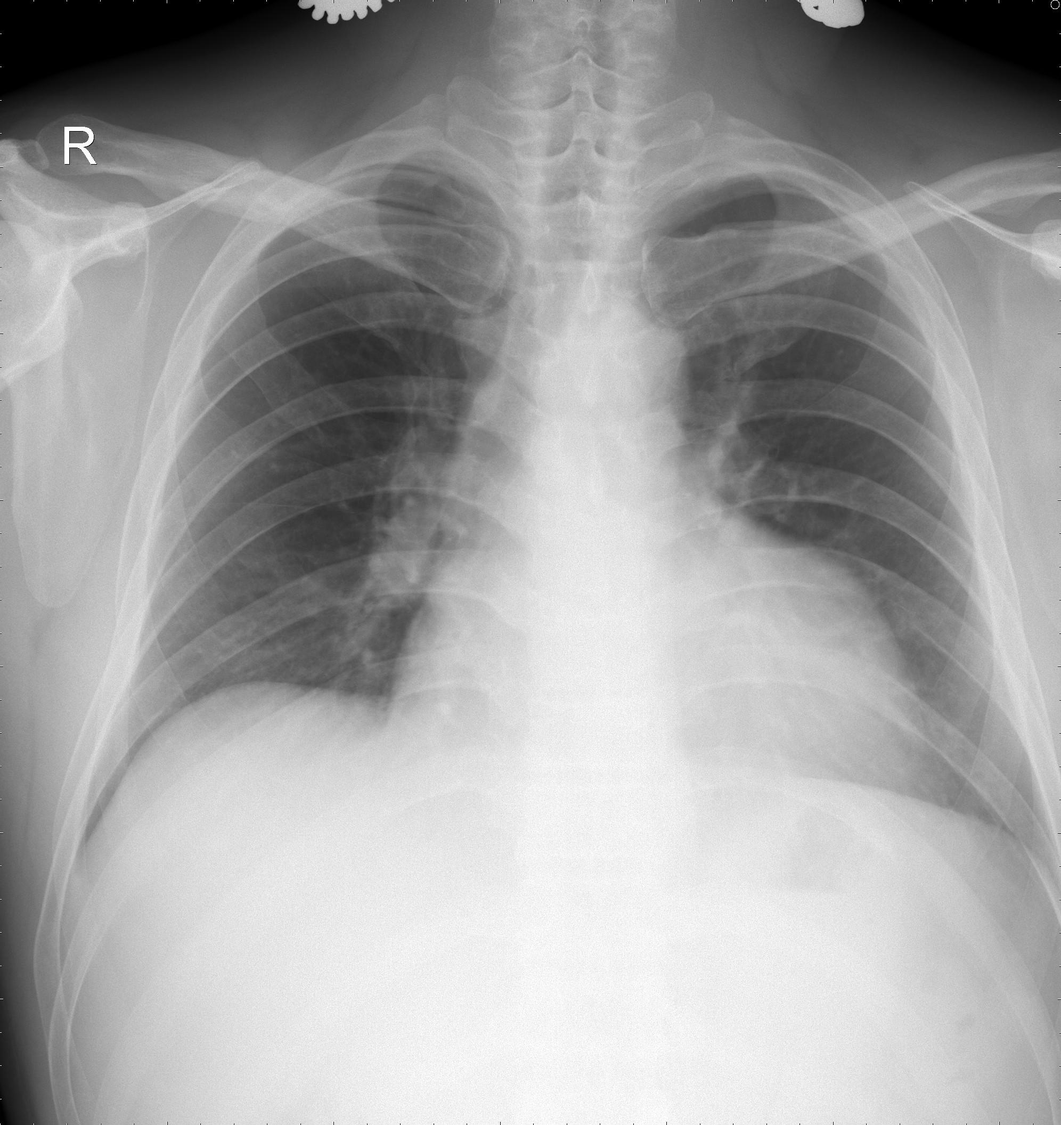Aortic enlargement: (560, 305, 688, 433)
Cardiomegaly: (385, 593, 927, 795)
